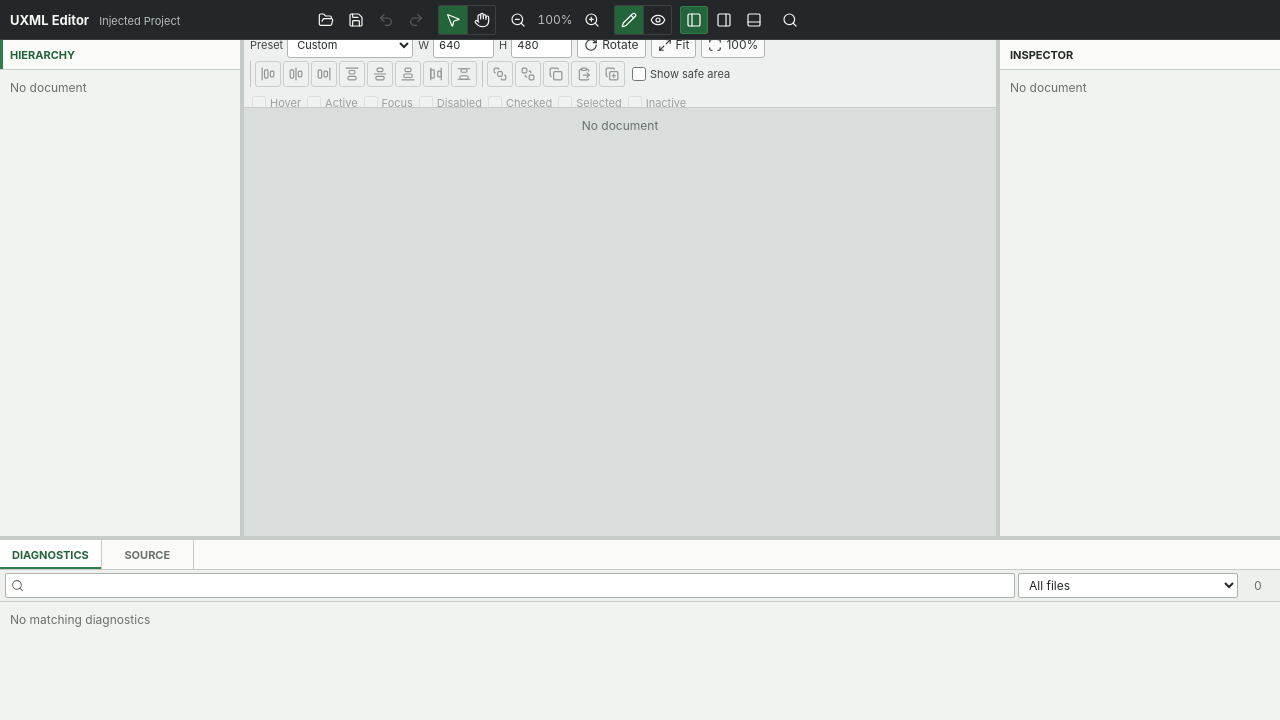
Test: workspace accessibility › shows rejected palette commands through one contained error boundary
This screenshot has width=1280, height=720.
Click the button named "Command Palette": (790, 20) [776,6,804,34]
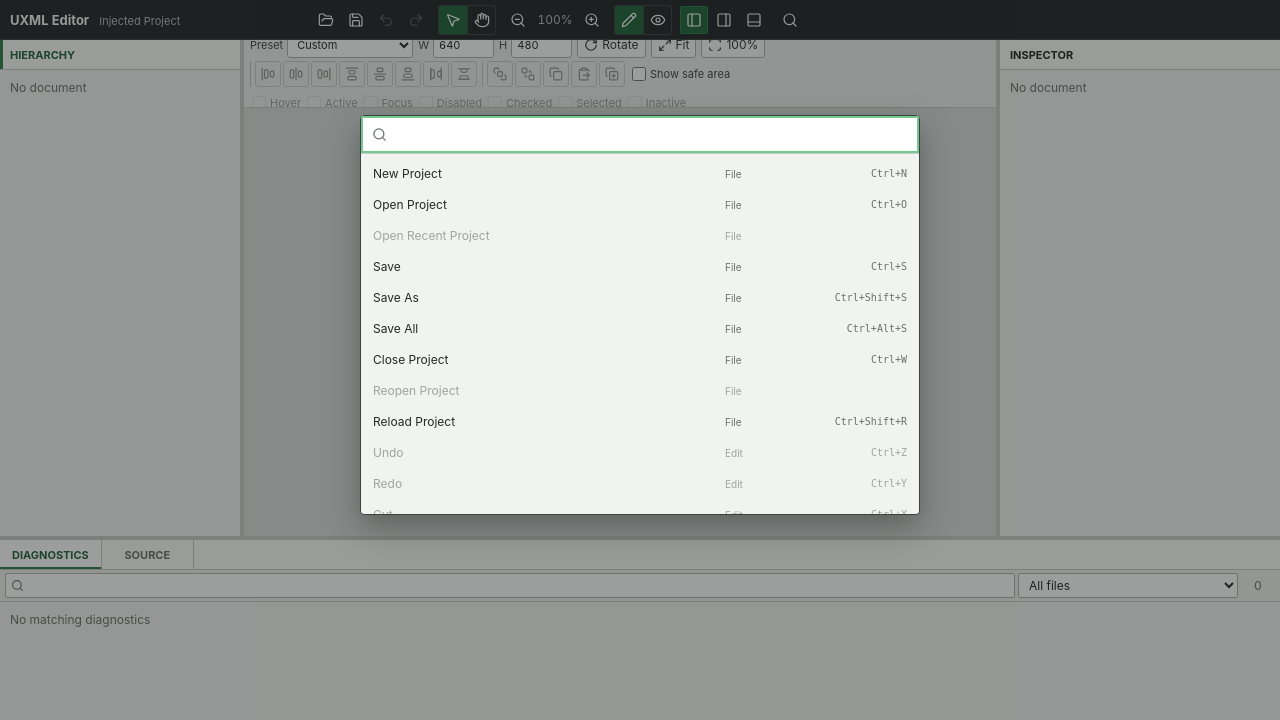
Click the option named "SaveFileCtrl+S": (889, 267) [365,251,915,282]
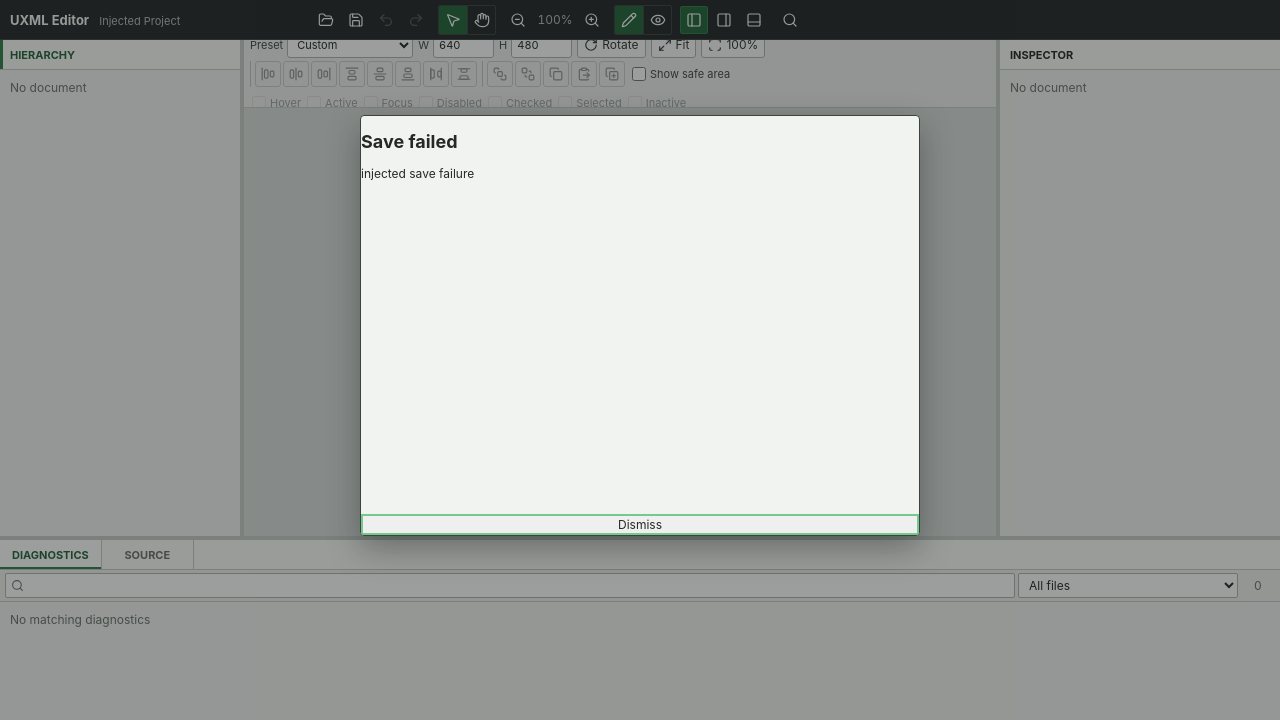
Expected: the dialog named "Command failed" shows "Save failed", [360,115,920,536]
Expected: the dialog named "Command failed" shows "injected save failure", [361,166,474,181]
